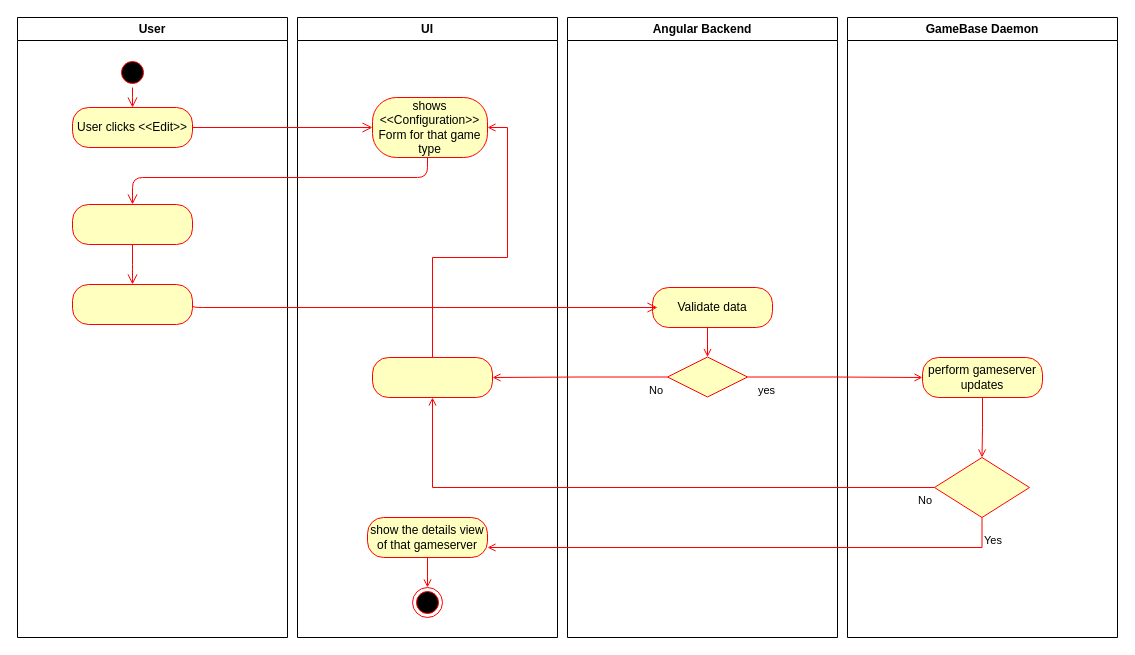
The diagram is 1135 pixels wide and 655 high, and some of its shapes have lost their labels. The centre of each missing label's shape, as x and y in pixels:
"show error message" belongs at [432,377].
"update successful?" belongs at [982,487].
"User clicks <<Save>> button" belongs at [132,304].
"User enters the required information" belongs at [132,224].
"valid data?" belongs at [707,376].
